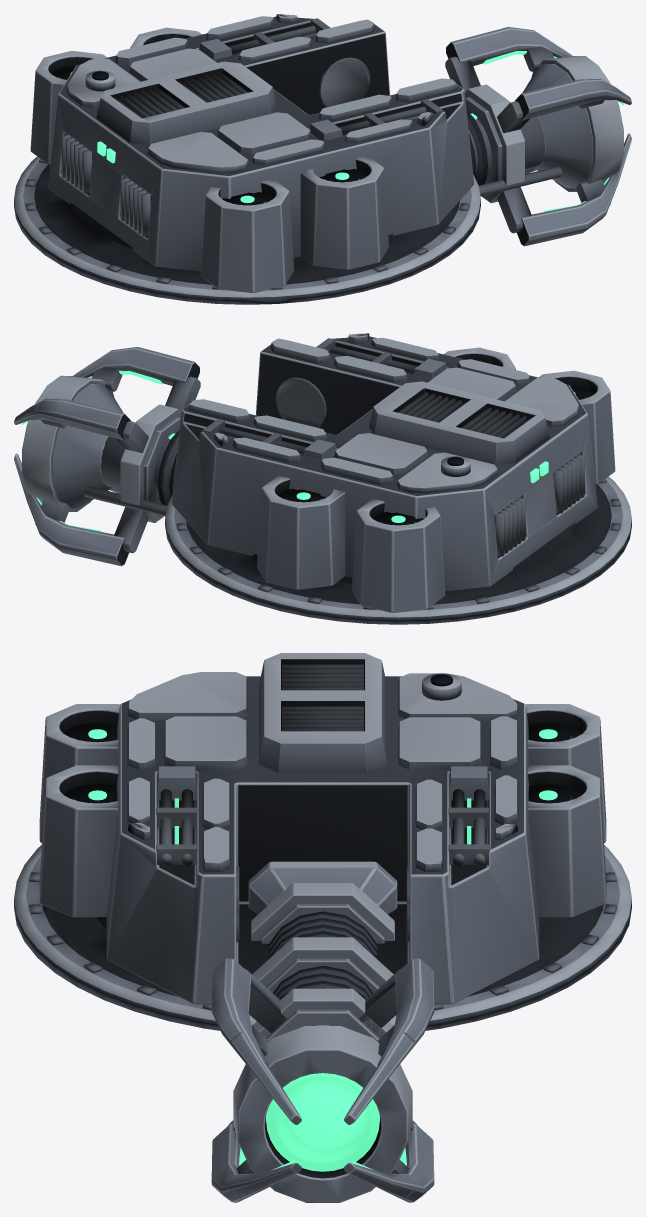
The model's file is deathRay.glb.
3 views of the same model, one above another, from view 1: azimuth 30°, elevation 25°; view 2: azimuth 150°, elevation 25°; view 3: azimuth 270°, elevation 25° (orthographic). The views are drawn at different scales.
Parts seen in each view (by area): view 1: housing, barrel, ring; view 2: housing, barrel, ring; view 3: housing, barrel, ring.
Part boxes in pixels (x1,y1,x2,y2): housing: (30,14,474,293); barrel: (445,27,631,246); ring: (14,156,480,304); housing: (171,333,615,612); barrel: (14,347,200,566); ring: (165,476,631,624); housing: (39,653,606,1004); barrel: (211,861,434,1202); ring: (14,845,631,1030).
Bounding box in the file's own units: 70.96 × 23.79 × 49.92.
